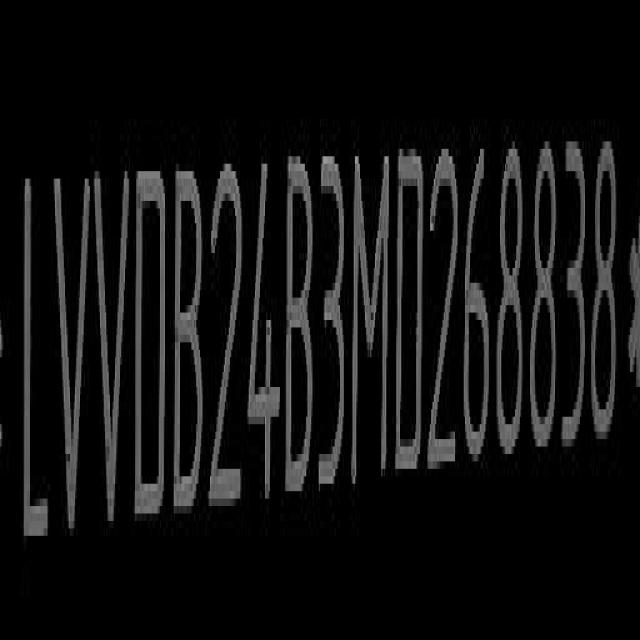2: (209, 165, 244, 522), (431, 144, 461, 476)
3: (319, 148, 348, 500)
4: (249, 156, 281, 515)
5: (563, 132, 589, 448)
6: (462, 144, 491, 471)
8: (530, 139, 559, 451), (594, 133, 622, 444), (499, 145, 526, 455)
B: (174, 161, 209, 533), (287, 150, 318, 504)
D: (132, 164, 166, 535), (396, 146, 427, 482)
L: (19, 170, 50, 562)
M: (353, 145, 389, 488)
V: (93, 162, 134, 541), (52, 171, 88, 551)
